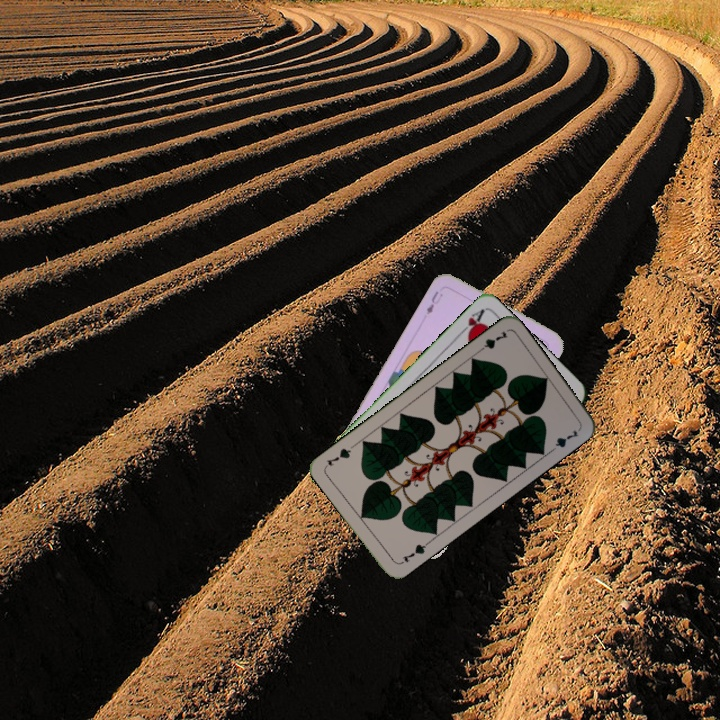EU: (422, 287, 446, 317)
G7: (473, 327, 511, 356), (396, 538, 431, 567)
HA: (454, 305, 487, 339)
